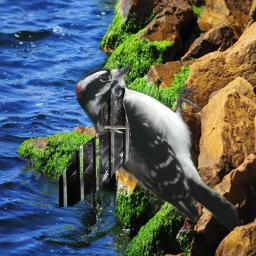Crow: (59, 85, 131, 207)
Woodpecker: (75, 63, 240, 231)
